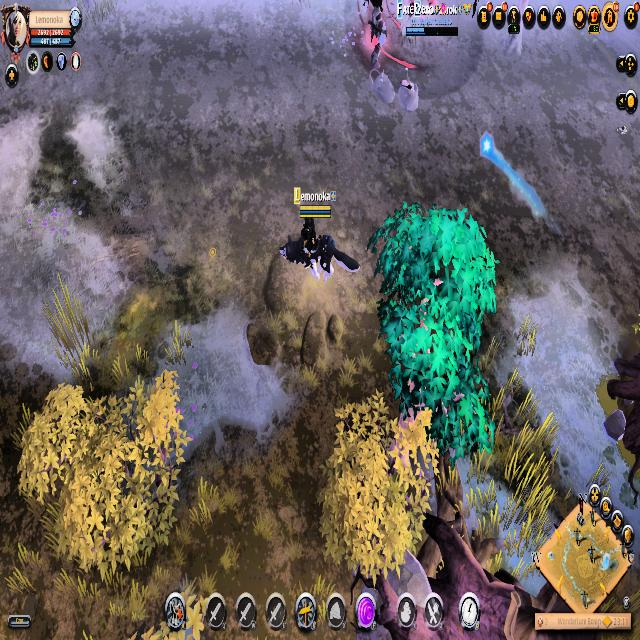wood tier 3: (369, 200, 497, 460)
